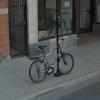Bicycle: (19, 32, 82, 87)
